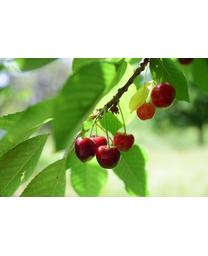cherry: (96, 144, 120, 170), (152, 82, 175, 108), (75, 136, 97, 163), (137, 100, 156, 122), (114, 133, 135, 152)
